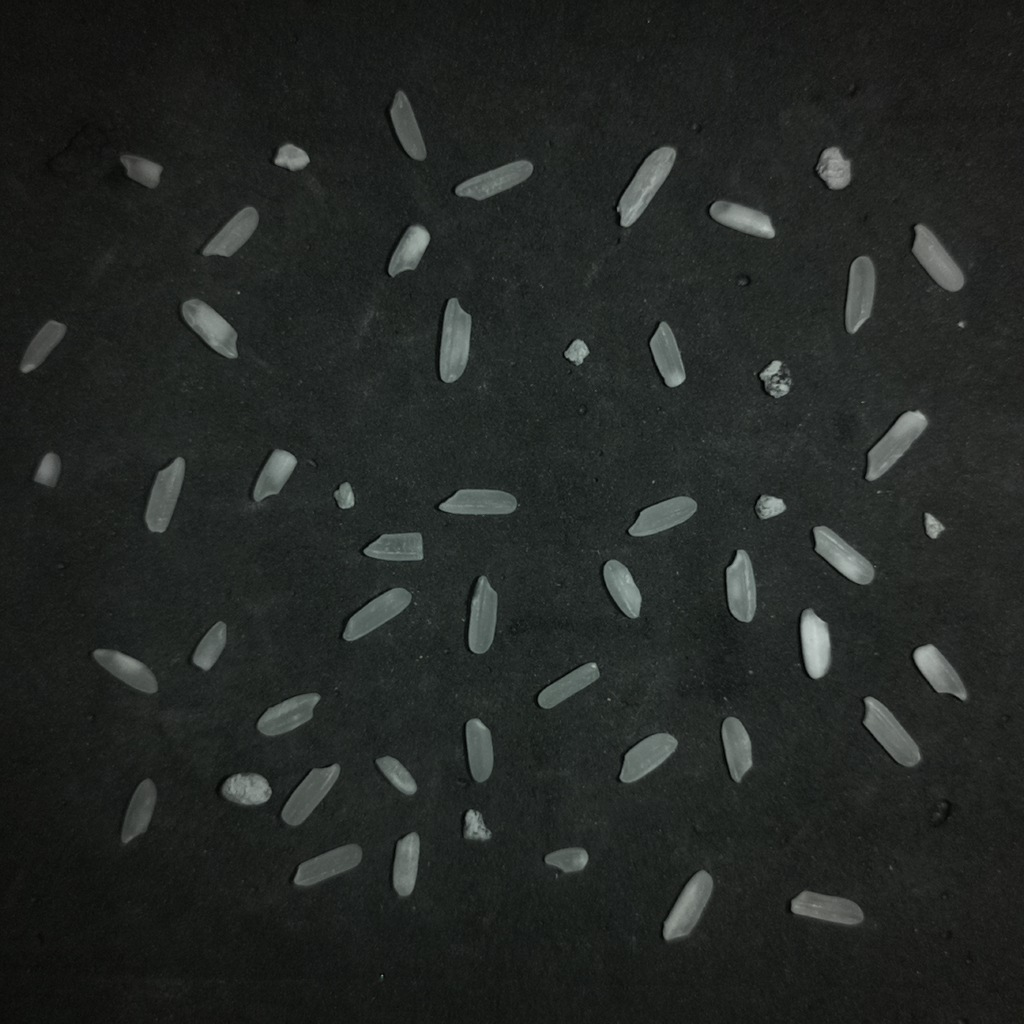broken: (281, 764, 339, 826), (619, 733, 677, 783), (537, 662, 599, 708), (202, 206, 258, 256), (257, 692, 319, 736), (20, 320, 65, 372), (253, 449, 296, 502), (122, 778, 156, 843), (721, 716, 752, 782), (191, 621, 227, 671), (392, 833, 419, 896), (363, 533, 423, 560), (376, 755, 416, 795), (120, 154, 162, 188), (544, 848, 588, 873), (33, 452, 61, 487)
chalky: (181, 298, 236, 358), (912, 644, 967, 700), (709, 200, 774, 238), (603, 559, 641, 618), (388, 224, 430, 277), (800, 609, 830, 678), (816, 147, 851, 189), (463, 809, 491, 840)
foreign: (220, 772, 271, 806), (760, 360, 790, 396), (274, 143, 309, 171), (755, 494, 785, 519), (563, 338, 589, 365), (923, 512, 945, 539), (333, 482, 354, 509)
whole: (617, 146, 677, 227), (865, 411, 927, 480), (862, 697, 920, 766), (812, 526, 874, 584), (342, 588, 411, 640), (912, 224, 964, 291), (663, 870, 712, 940), (454, 160, 532, 199), (145, 458, 185, 532), (92, 649, 157, 693), (293, 844, 361, 886), (628, 496, 696, 536), (439, 298, 471, 382), (790, 890, 863, 925), (389, 91, 426, 160), (844, 255, 875, 334), (649, 321, 685, 387), (467, 576, 497, 653), (725, 549, 756, 622), (439, 489, 516, 514), (465, 718, 493, 782)
